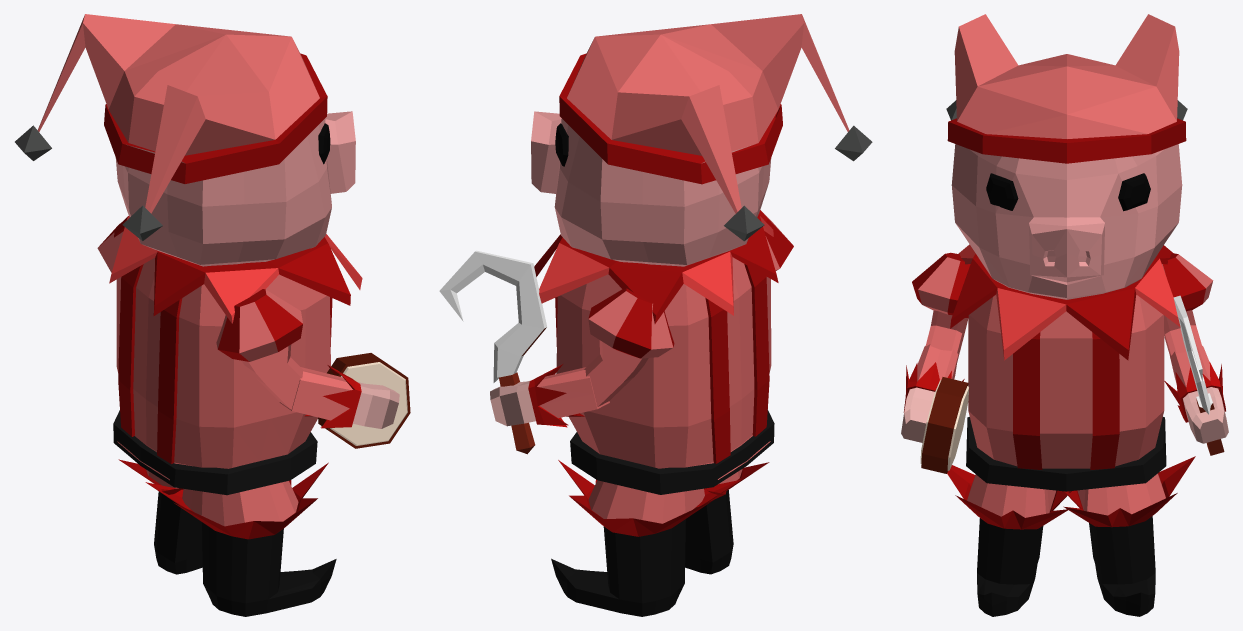
File: jester.glb
The picture shows the model from 3 angles, left to right: view 1: azimuth 30°, elevation 25°; view 2: azimuth 150°, elevation 25°; view 3: azimuth 270°, elevation 25°; orthographic projection. The views are drawn at different scales.
Parts seen in each view (by area): view 1: jester; view 2: jester; view 3: jester.
Part boxes in pixels (x1,y1,x2,y2): jester: [15, 14, 410, 616]; jester: [439, 14, 872, 616]; jester: [901, 14, 1228, 616].
Size of the model in its own units: 2.96 by 5.11 by 2.88.
6 materials, 3 textured.
